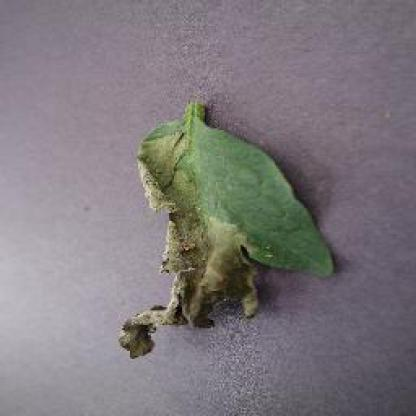bad leaf: (126, 130, 304, 336)
